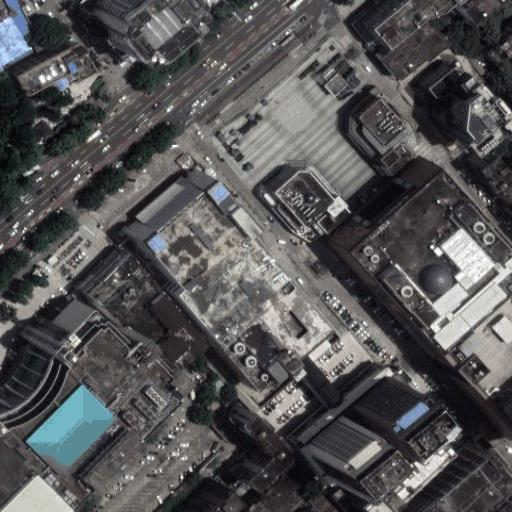building: (121, 171, 309, 376), (328, 161, 510, 346), (0, 297, 151, 512), (420, 267, 512, 454), (76, 246, 195, 369), (254, 328, 375, 441), (415, 63, 503, 155), (366, 436, 460, 512), (261, 166, 350, 243), (402, 454, 497, 512), (346, 94, 414, 174), (12, 39, 88, 100), (242, 415, 299, 496), (97, 0, 185, 52), (351, 375, 417, 441), (305, 416, 368, 479), (382, 21, 446, 82), (360, 0, 442, 43), (471, 153, 512, 209), (479, 367, 512, 435), (250, 478, 297, 512), (465, 0, 509, 26), (177, 486, 221, 512), (232, 377, 264, 411), (333, 490, 364, 512), (323, 68, 346, 96), (309, 491, 338, 512), (502, 36, 512, 58)
